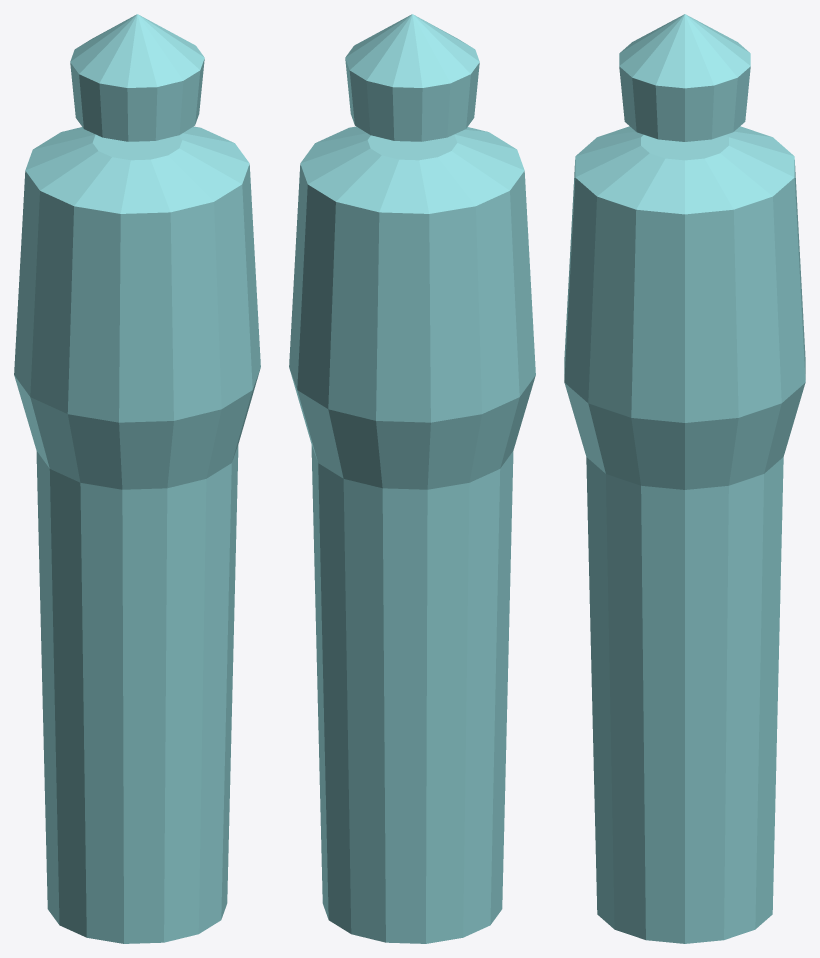
File: ref_human.fbx
3 views of the same model, side by side, from view 1: azimuth 30°, elevation 25°; view 2: azimuth 150°, elevation 25°; view 3: azimuth 270°, elevation 25° (orthographic).
Parts seen in each view (by area): view 1: ref_human; view 2: ref_human; view 3: ref_human.
Part boxes in pixels (box(x1,y1,x2,y2)): ref_human: box(14, 14, 260, 943); ref_human: box(289, 14, 535, 943); ref_human: box(564, 14, 805, 943).
Bounding box in the file's own units: 0.44 × 1.75 × 0.429.
